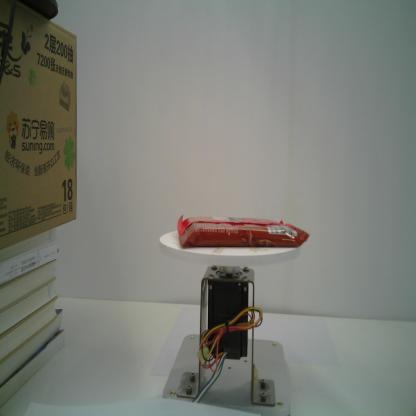Dessert: (177, 214, 310, 249)
